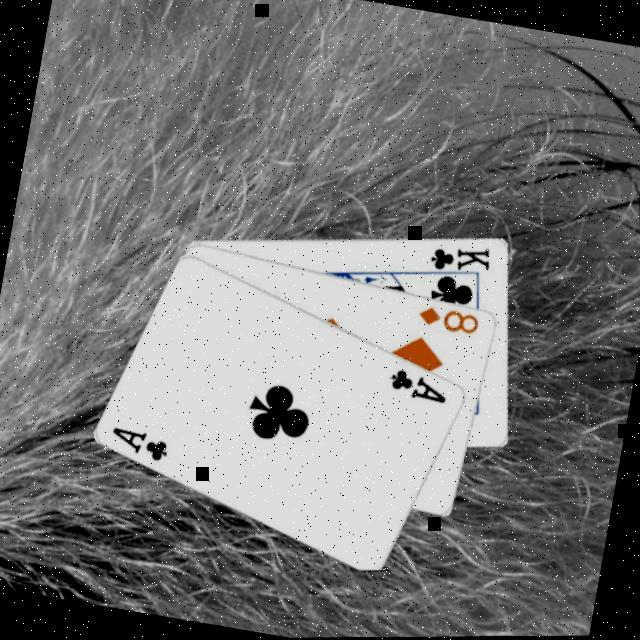8D: (412, 299, 484, 338)
AC: (384, 362, 453, 406), (105, 420, 174, 464)
KC: (420, 234, 495, 287)
